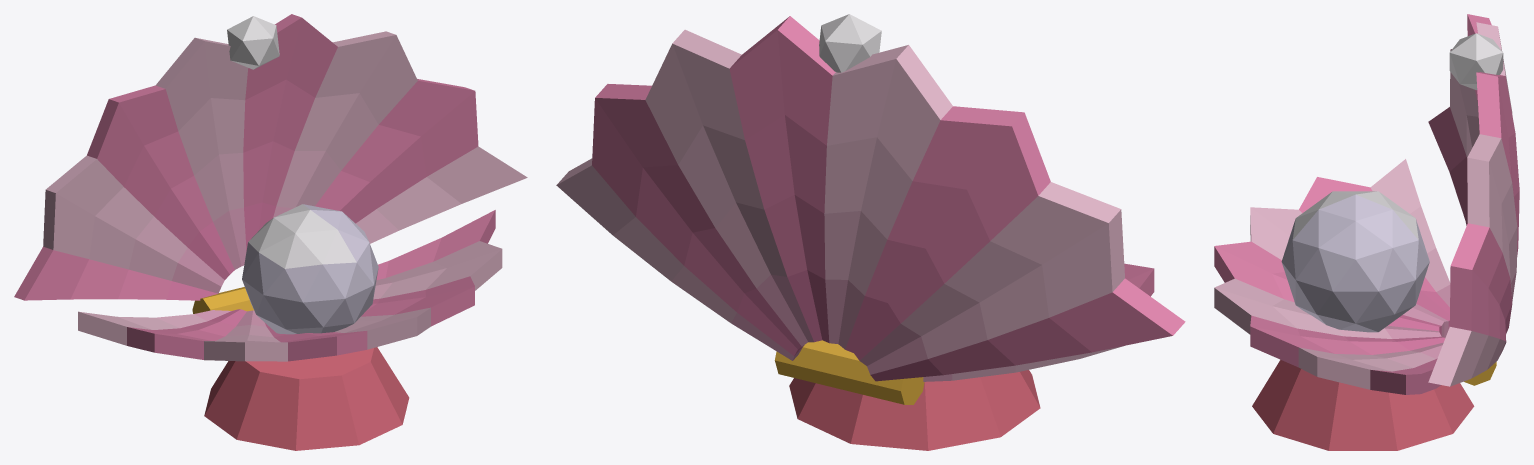
File: habitat_prop_queen_jelly.fbx
3 views of the same model, side by side, from view 1: azimuth 30°, elevation 25°; view 2: azimuth 150°, elevation 25°; view 3: azimuth 270°, elevation 25° (orthographic). The views are drawn at different scales.
Visible parts, largest first — view 1: habitat_prop_queen_jelly; view 2: habitat_prop_queen_jelly; view 3: habitat_prop_queen_jelly.
Part boxes in pixels (left/top/right/bottom): habitat_prop_queen_jelly: left=14, top=14, right=527, bottom=450; habitat_prop_queen_jelly: left=556, top=14, right=1185, bottom=450; habitat_prop_queen_jelly: left=1214, top=14, right=1519, bottom=450.
Bounding box in the file's own units: 1.66 × 1.11 × 0.8238.
